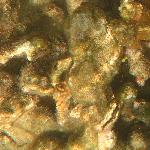dead: (6, 7, 146, 145)
